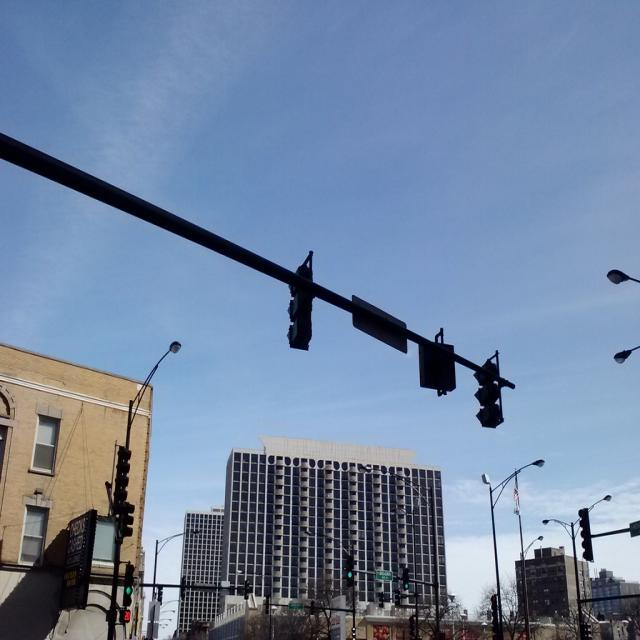off traffic light: (474, 351, 504, 429), (289, 285, 314, 350)
traffic light: (123, 564, 136, 606), (342, 556, 356, 586)
